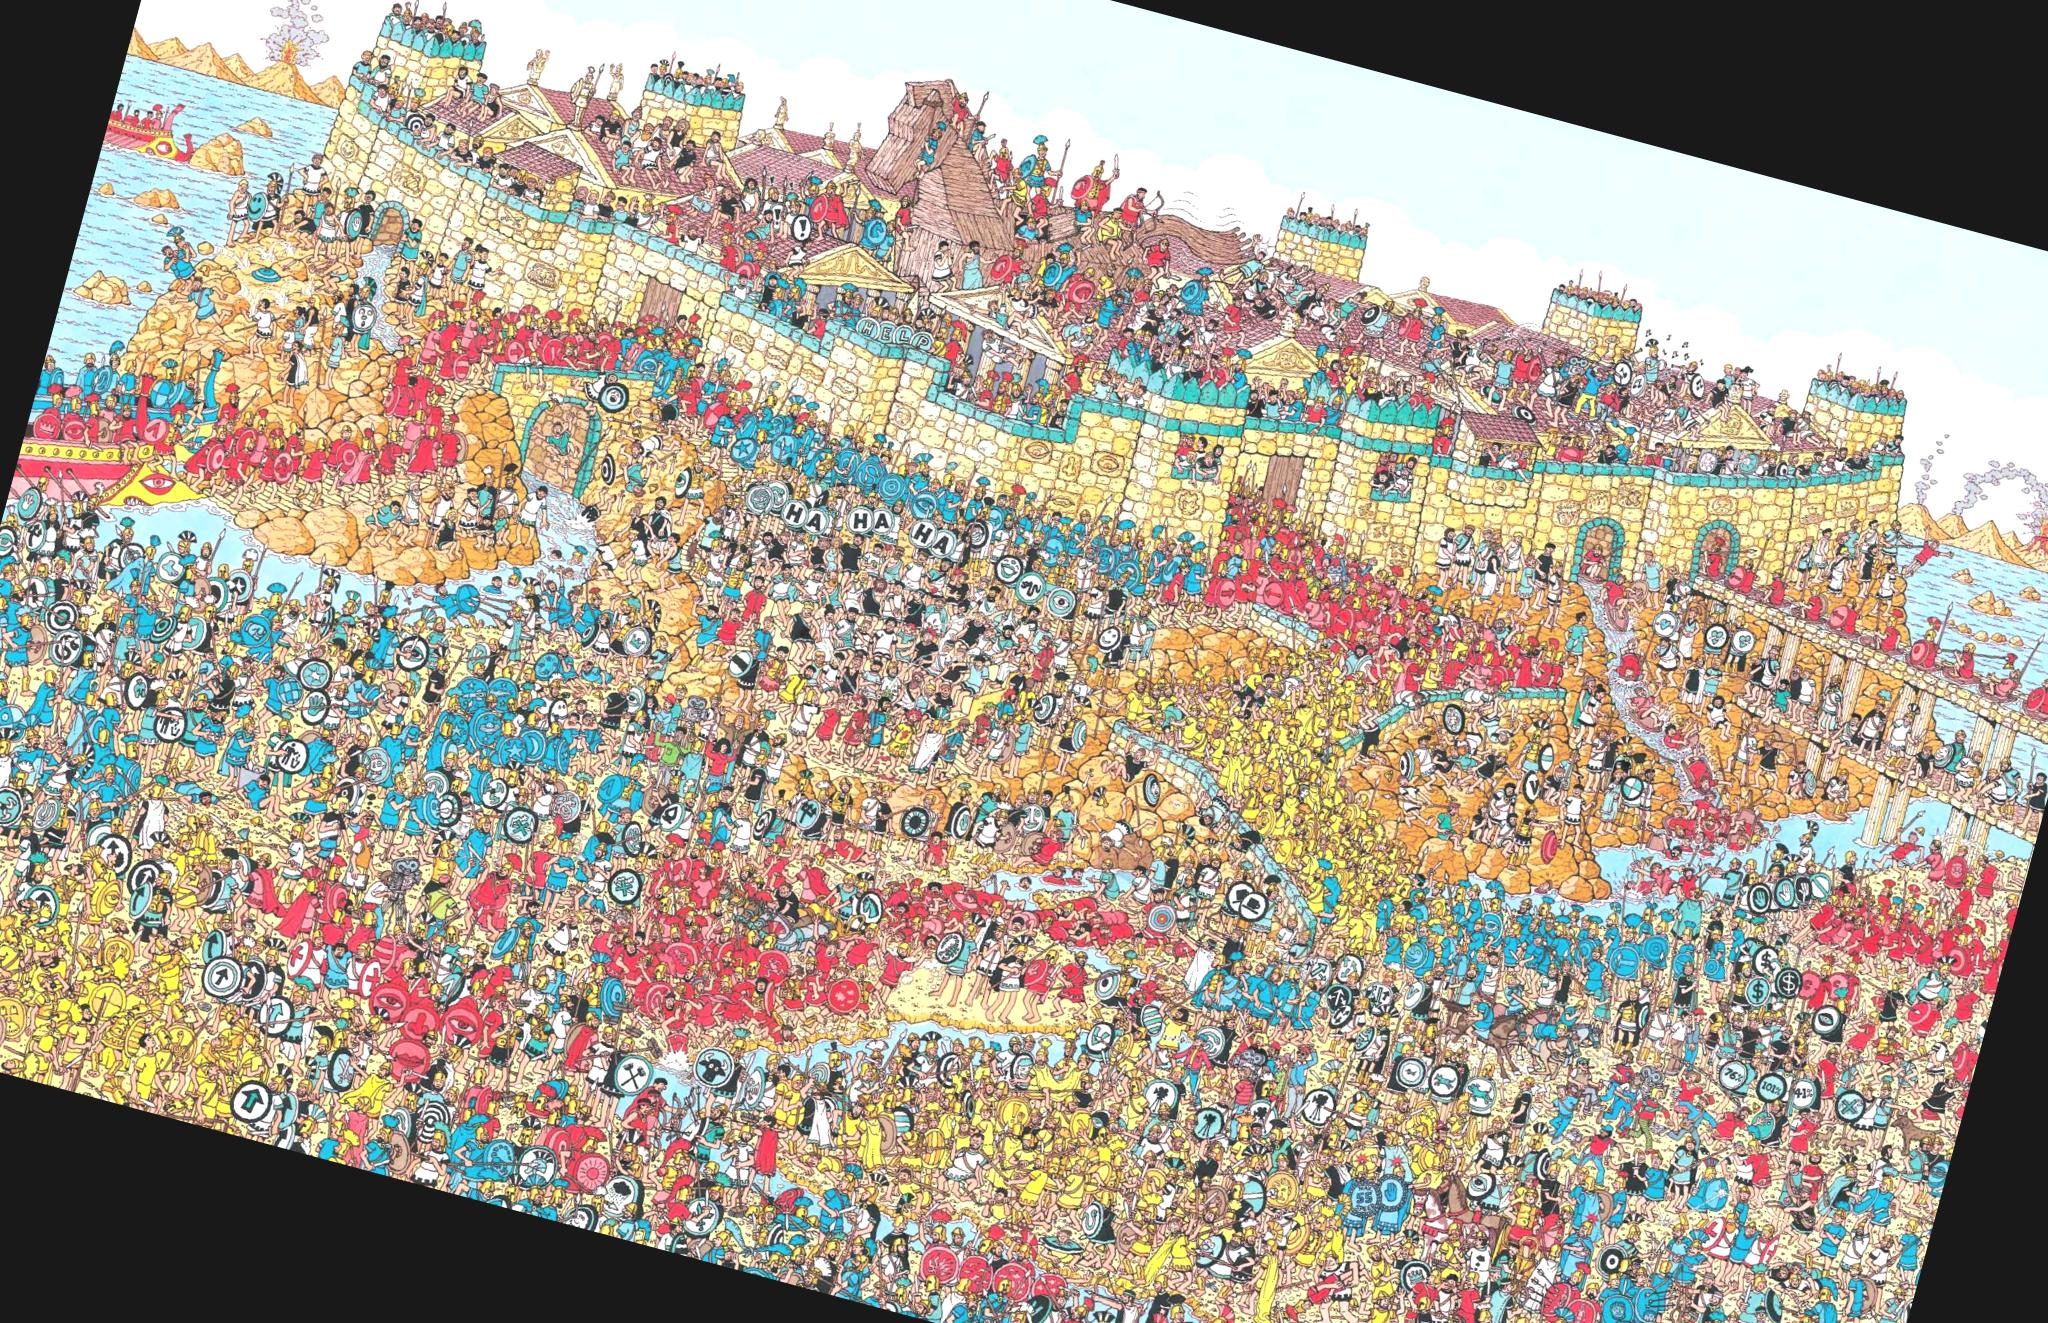waldo: (236, 914, 255, 936)
